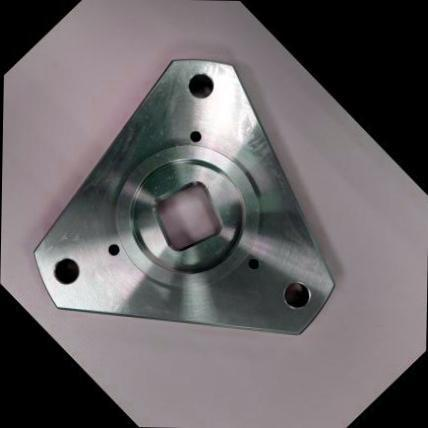hole: (273, 272, 319, 318), (178, 62, 222, 108), (44, 249, 88, 292), (241, 250, 265, 274), (100, 237, 123, 260), (182, 124, 206, 146)
